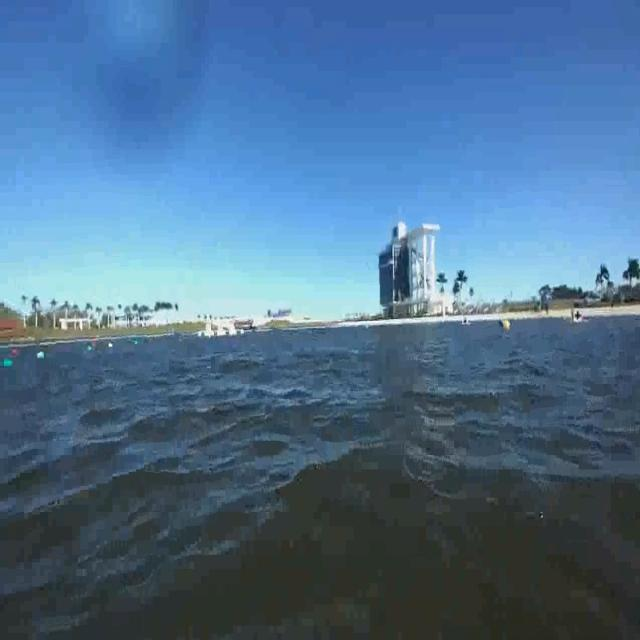green-buoy: (3, 358, 13, 368)
yellow-buoy: (502, 318, 510, 332)
